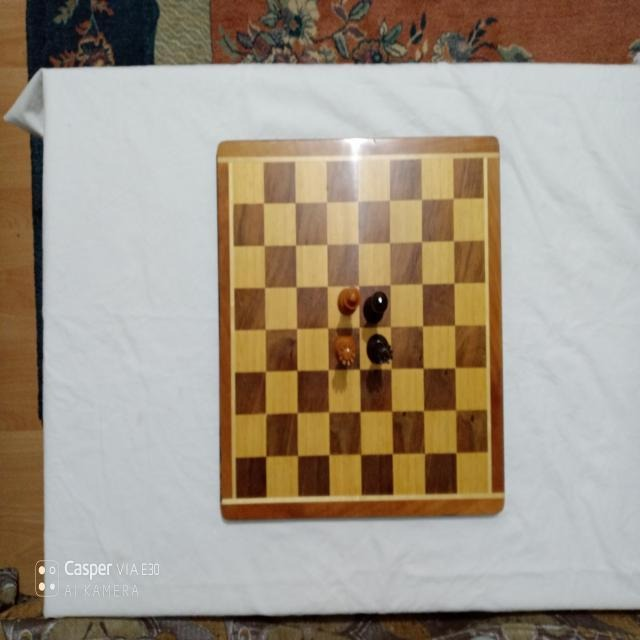black-king: (363, 290, 389, 325)
black-queen: (366, 333, 394, 366)
white-king: (337, 285, 361, 316)
white-queen: (333, 333, 357, 367)
